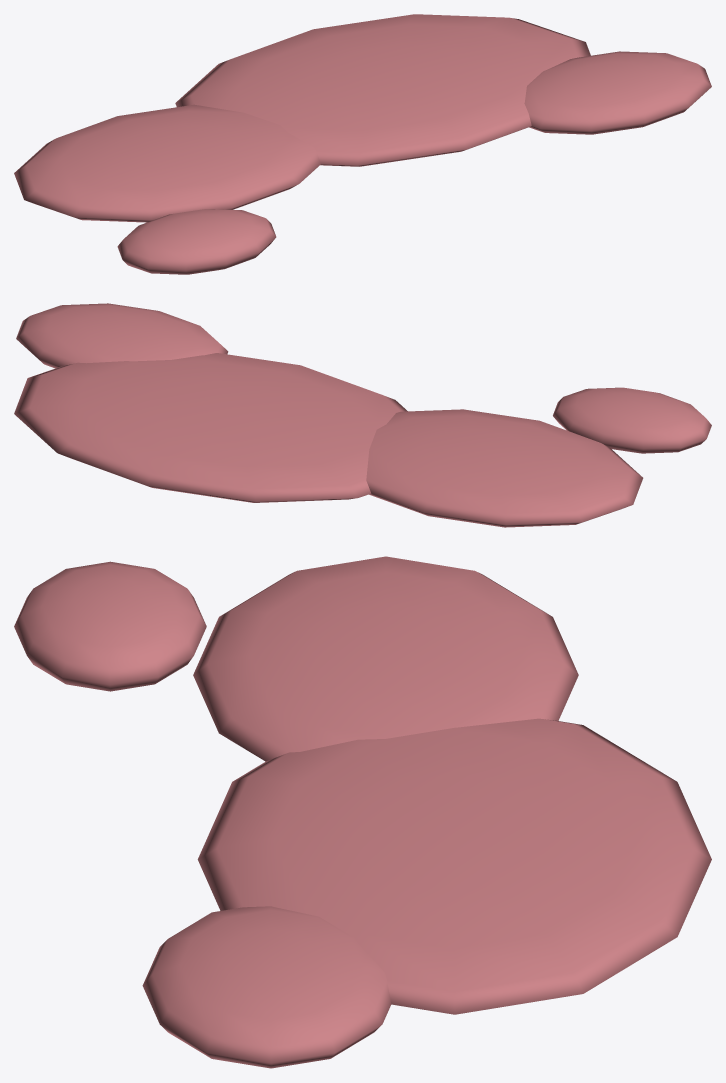
Rendered from frosting_spill.glb.
3 views of the same model, one above another, from view 1: azimuth 30°, elevation 25°; view 2: azimuth 150°, elevation 25°; view 3: azimuth 270°, elevation 25° (orthographic). The views are drawn at different scales.
Visible parts, largest first — view 1: frosting_spill; view 2: frosting_spill; view 3: frosting_spill.
Boxes of the visible parts, box(x1,y1,x2,y2) form: frosting_spill: box(14, 14, 711, 274); frosting_spill: box(14, 303, 711, 527); frosting_spill: box(14, 556, 711, 1068).
Size of the model in its own units: 0.52 by 0.028 by 0.304.
